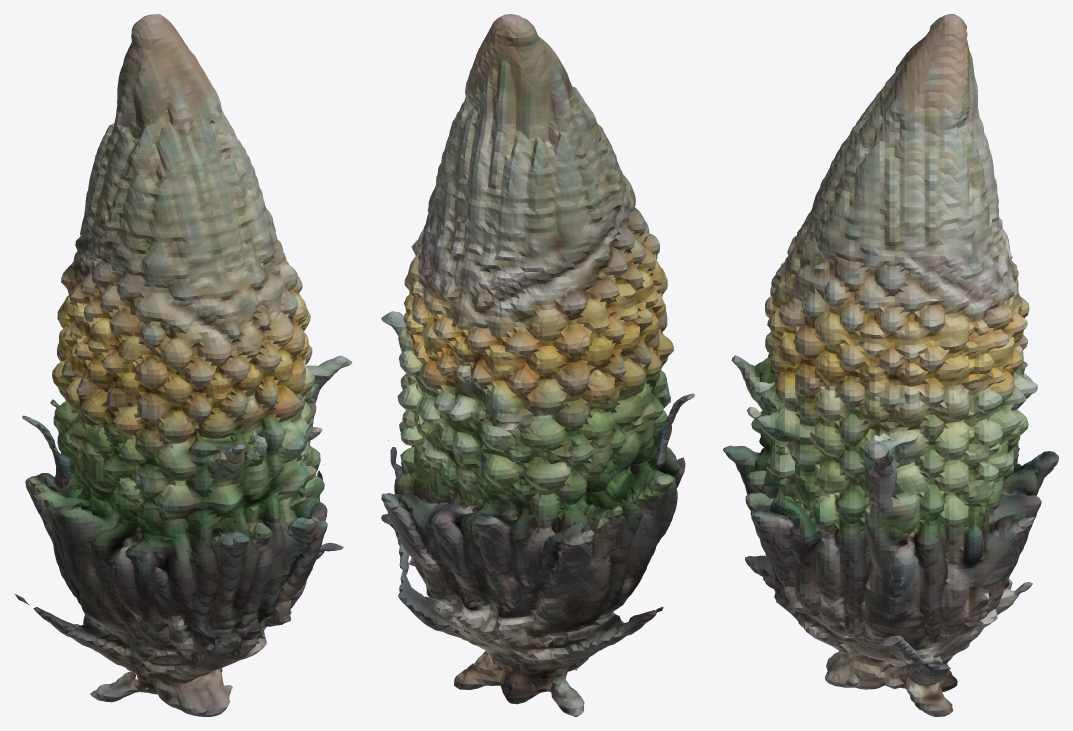
Rendered from MaizToken-11.glb.
3 renders of one model, left to right at view 1: azimuth 30°, elevation 25°; view 2: azimuth 150°, elevation 25°; view 3: azimuth 270°, elevation 25°, orthographic. The views are drawn at different scales.
Visible parts, largest first — view 1: world; view 2: world; view 3: world.
Part boxes in pixels (x1,y1,x2,y2): world: (15, 14, 352, 716); world: (381, 14, 694, 716); world: (723, 14, 1058, 716).
Bounding box in the file's own units: 0.5029 × 1.02 × 0.4598.
